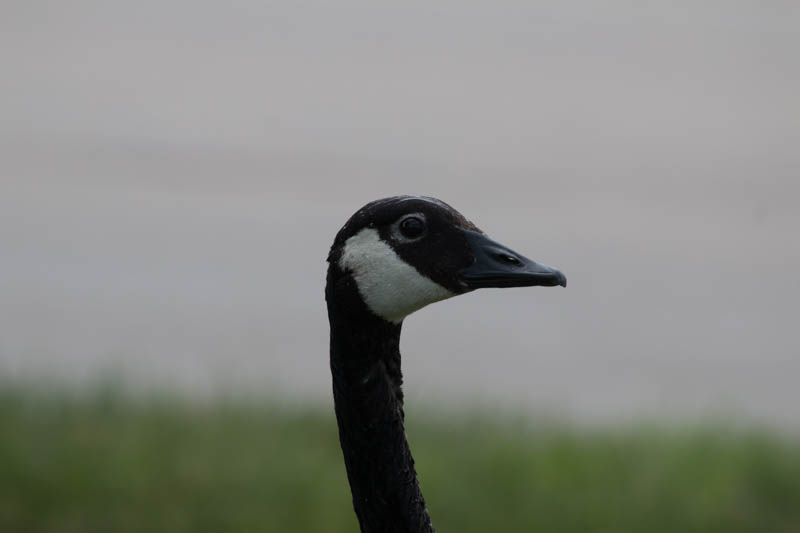goose-head: (326, 196, 568, 324)
